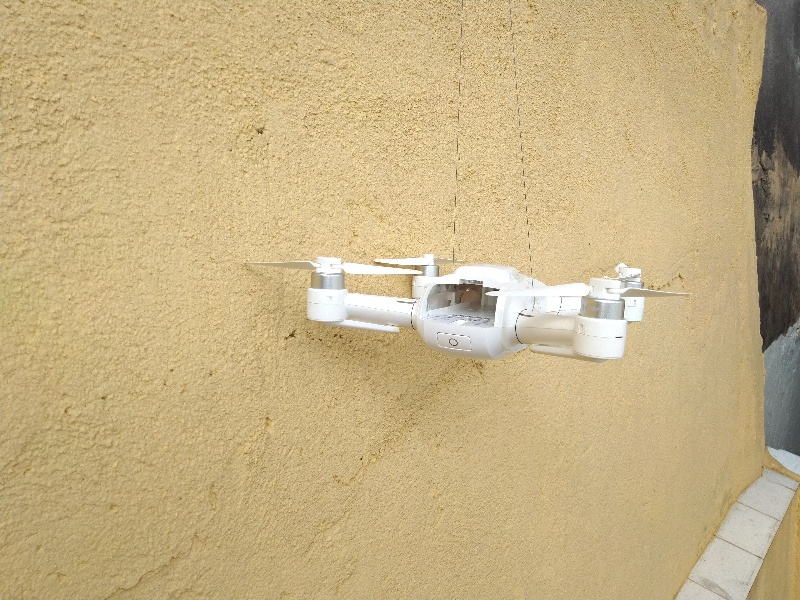drone: (248, 240, 699, 367)
